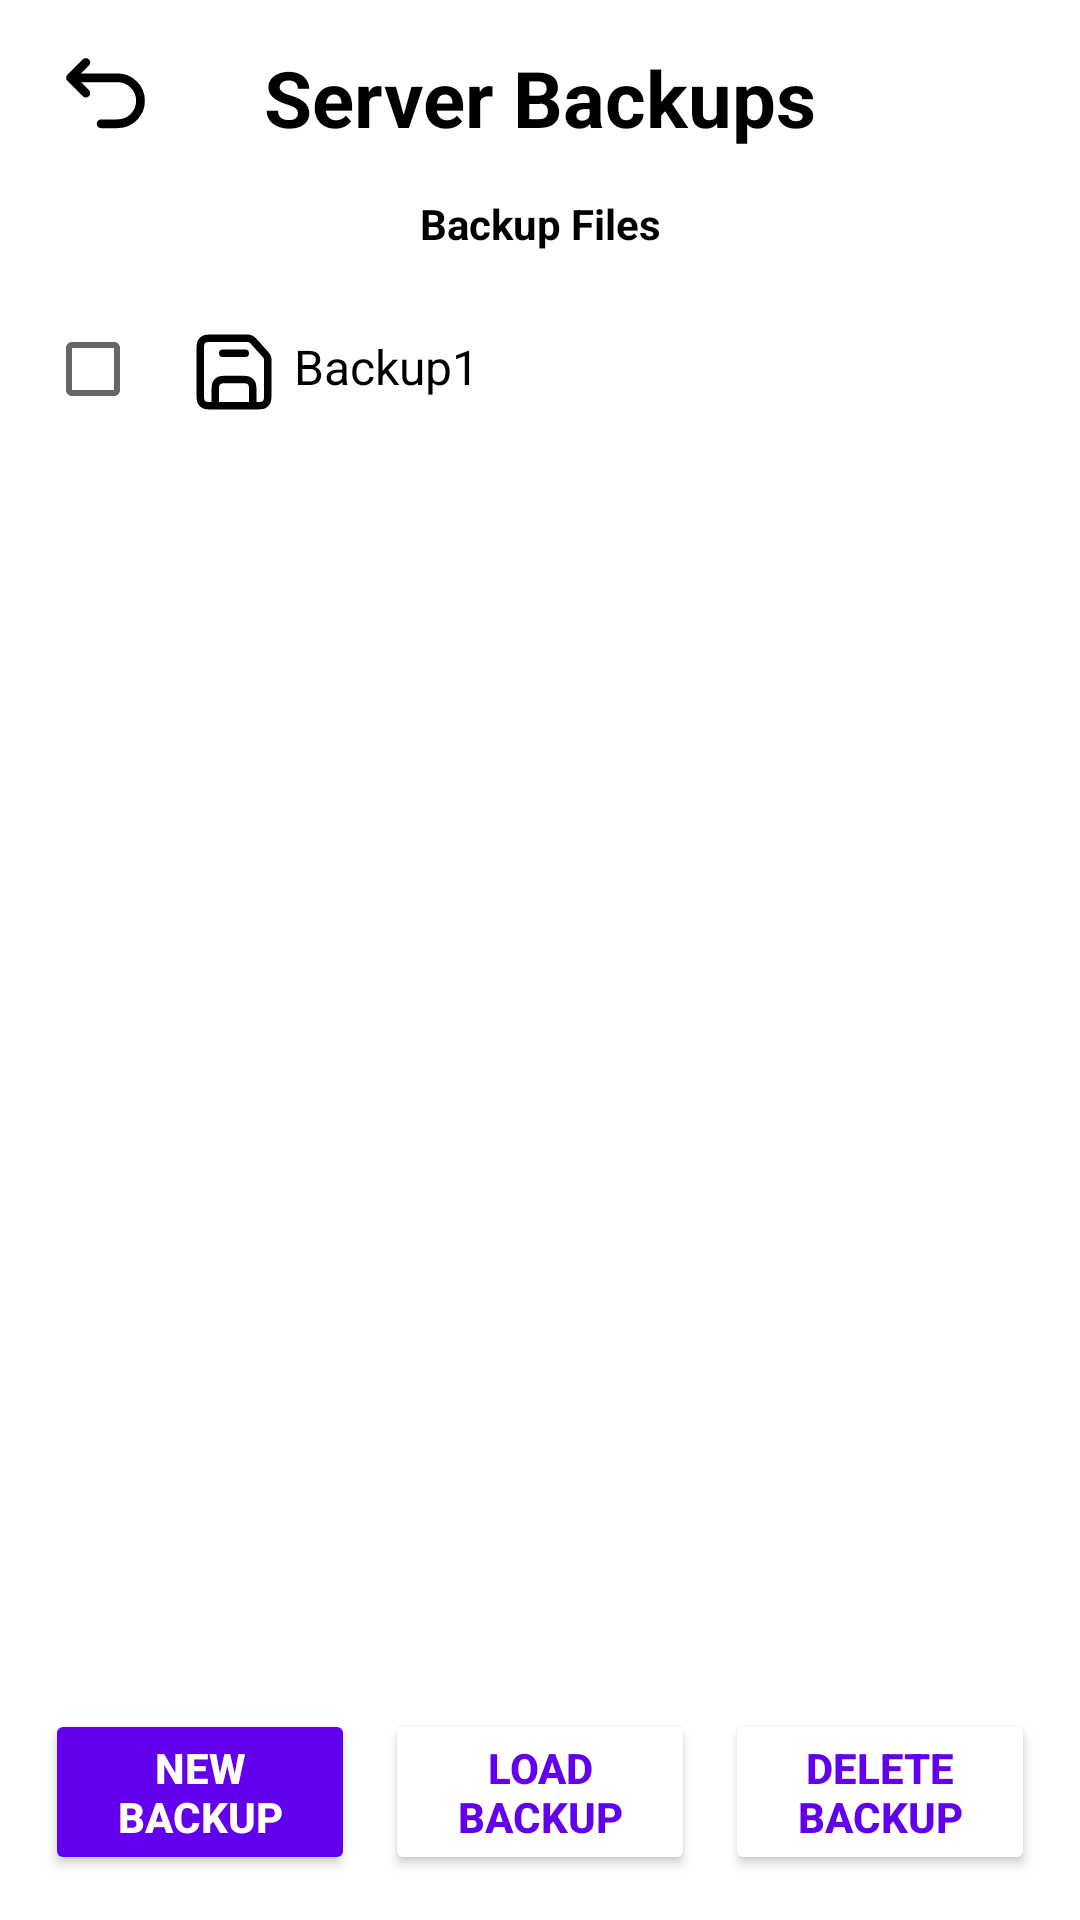

Icon click points for this 1080 x 1920 phone screenshot, format point (x, y):
save: point (234, 372)
